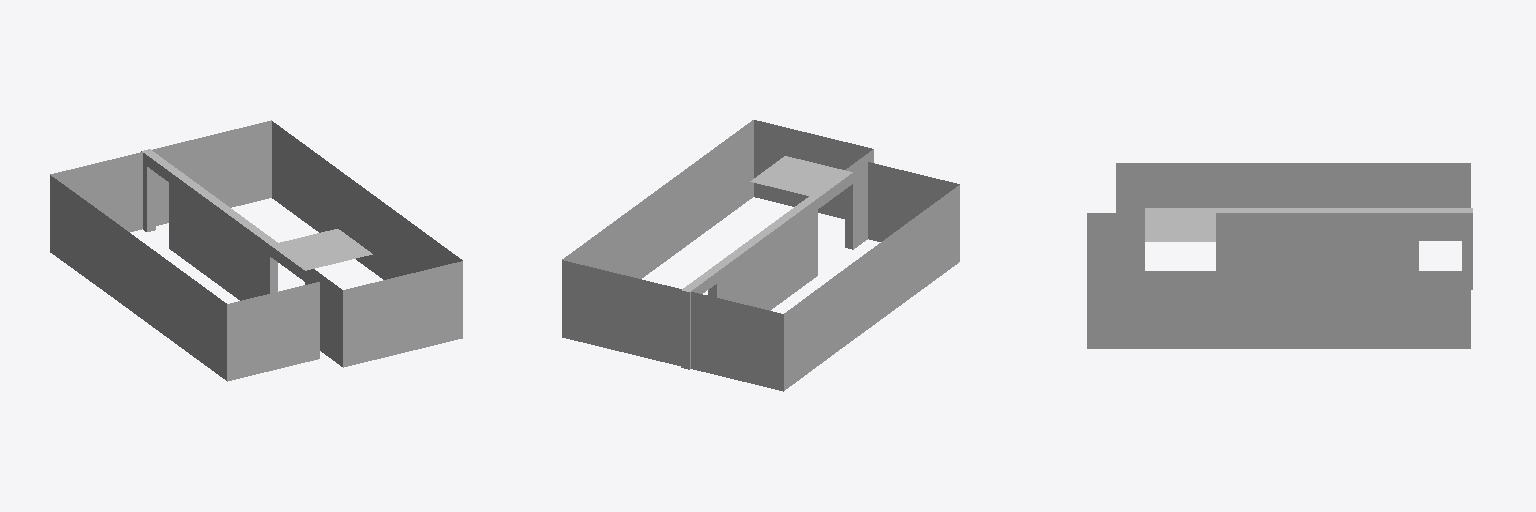
Rendered from Wall.obj.
3 renders of one model, left to right at view 1: azimuth 30°, elevation 25°; view 2: azimuth 150°, elevation 25°; view 3: azimuth 270°, elevation 25°, orthographic.
Visible parts, largest first — view 1: Wall; view 2: Wall; view 3: Wall.
Boxes of the visible parts, x1,y1,x2,y2 form: Wall: [50, 120, 462, 381]; Wall: [562, 120, 959, 391]; Wall: [1087, 163, 1472, 348].
Bounding box in the file's own units: 14.98 × 5 × 22.57.